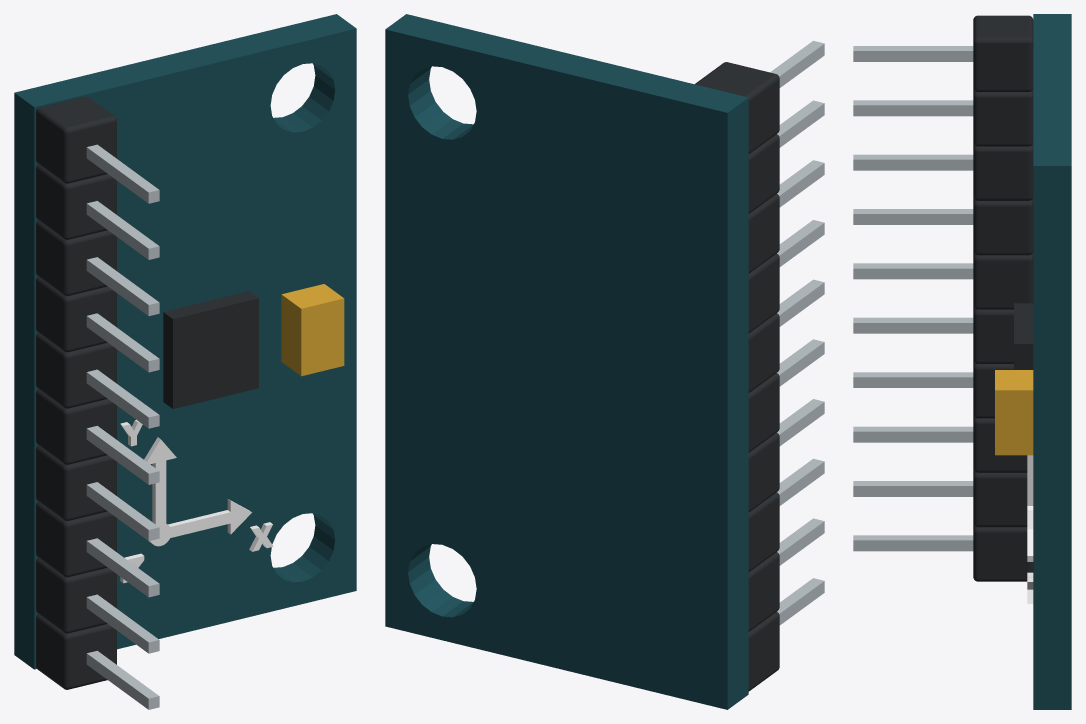
Rendered from tinker.obj.
3 views of the same model, side by side, from view 1: azimuth 30°, elevation 25°; view 2: azimuth 150°, elevation 25°; view 3: azimuth 270°, elevation 25° (orthographic). The views are drawn at different scales.
Parts seen in each view (by area): view 1: group_0_1855578, group_0_2829873, group_0_12568524, group_0_14789940, group_0_16448250; view 2: group_0_1855578, group_0_2829873, group_0_12568524; view 3: group_0_2829873, group_0_1855578, group_0_12568524, group_0_14789940, group_0_16448250.
Part boxes in pixels (left/top/right/bottom): group_0_1855578: left=14, top=14, right=356, bottom=669; group_0_2829873: left=36, top=96, right=258, bottom=689; group_0_12568524: left=86, top=144, right=159, bottom=709; group_0_14789940: left=281, top=284, right=344, bottom=376; group_0_16448250: left=120, top=419, right=273, bottom=583; group_0_1855578: left=385, top=14, right=748, bottom=709; group_0_2829873: left=695, top=62, right=779, bottom=691; group_0_12568524: left=770, top=40, right=824, bottom=625; group_0_2829873: left=973, top=15, right=1033, bottom=581; group_0_1855578: left=1033, top=14, right=1071, bottom=709; group_0_12568524: left=853, top=46, right=973, bottom=551; group_0_14789940: left=995, top=370, right=1033, bottom=455; group_0_16448250: left=1027, top=455, right=1033, bottom=603.
Size of the model in its own units: 15 by 25 by 9.1.
